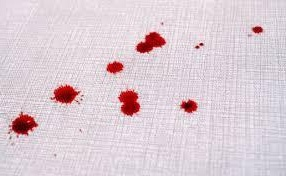blood: (135, 32, 166, 55), (9, 113, 37, 136), (119, 89, 140, 117), (51, 85, 78, 104), (180, 99, 199, 113), (106, 61, 125, 73), (251, 26, 264, 35), (194, 42, 205, 50)
